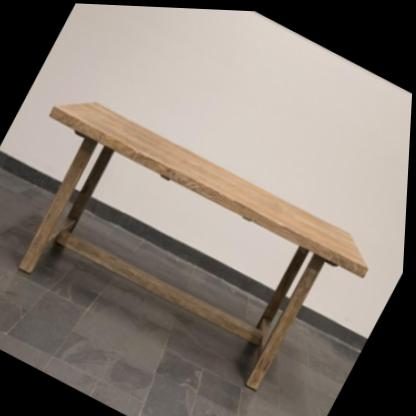Ceramic floor: (0, 166, 364, 416)
Table: (0, 69, 398, 416)
